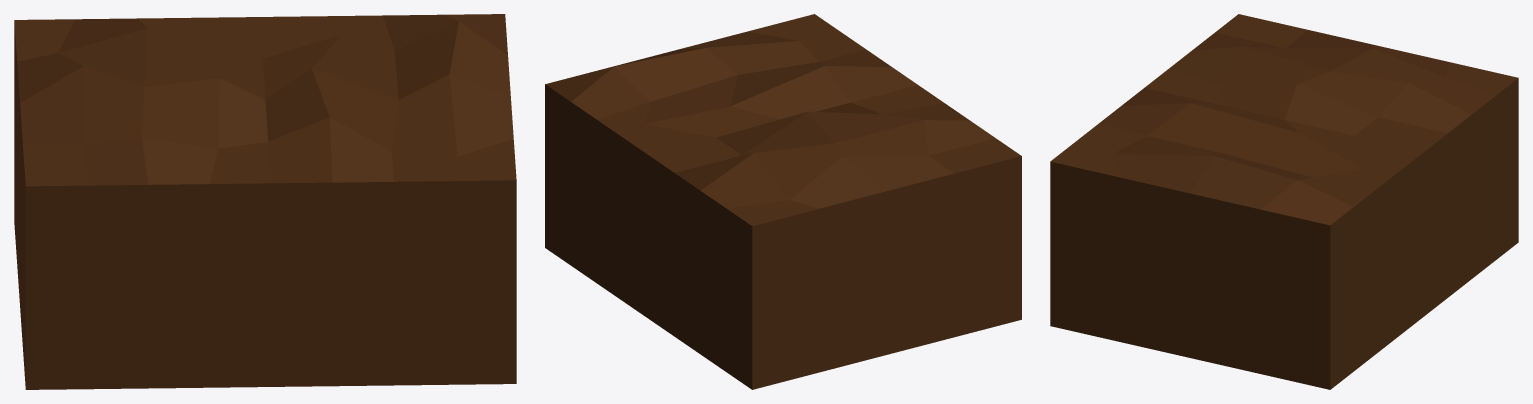
The model's file is S_FarmBlock_2.fbx.
The picture shows the model from 3 angles, left to right: view 1: azimuth 30°, elevation 25°; view 2: azimuth 150°, elevation 25°; view 3: azimuth 270°, elevation 25°; orthographic projection. The views are drawn at different scales.
Visible parts, largest first — view 1: FarmBlock_2; view 2: FarmBlock_2; view 3: FarmBlock_2.
Part boxes in pixels (box(x1,y1,x2,y2)): FarmBlock_2: box(14, 14, 516, 389); FarmBlock_2: box(545, 14, 1021, 389); FarmBlock_2: box(1050, 14, 1518, 389).
Size of the model in its own units: 551 by 225 by 516.
